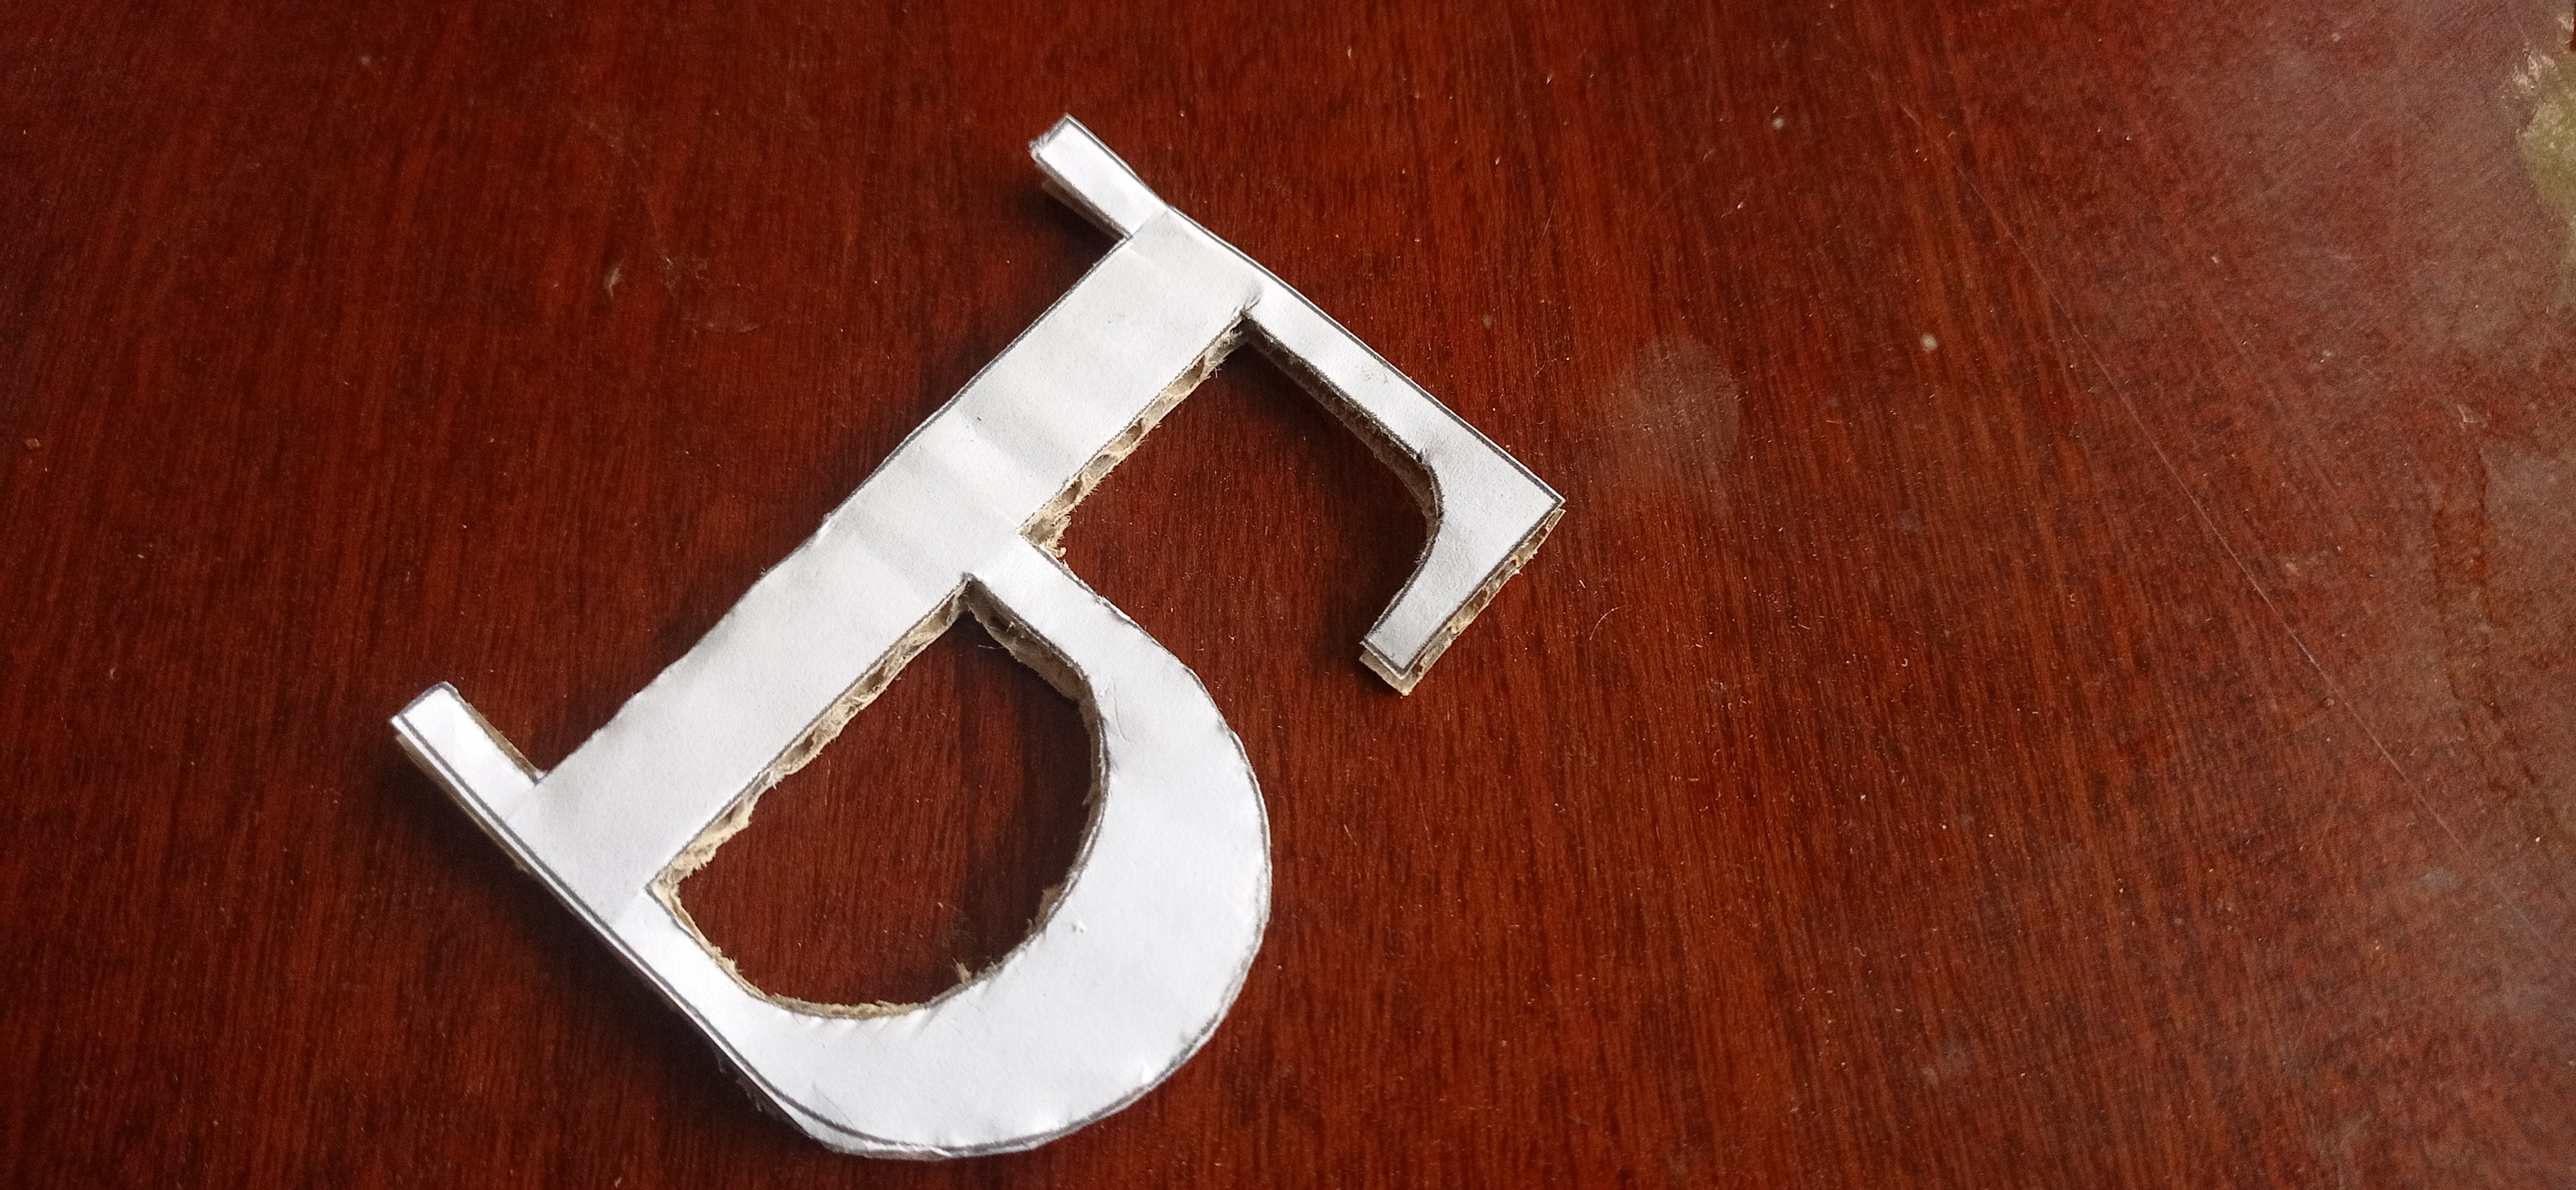b: (388, 110, 1567, 1165)
